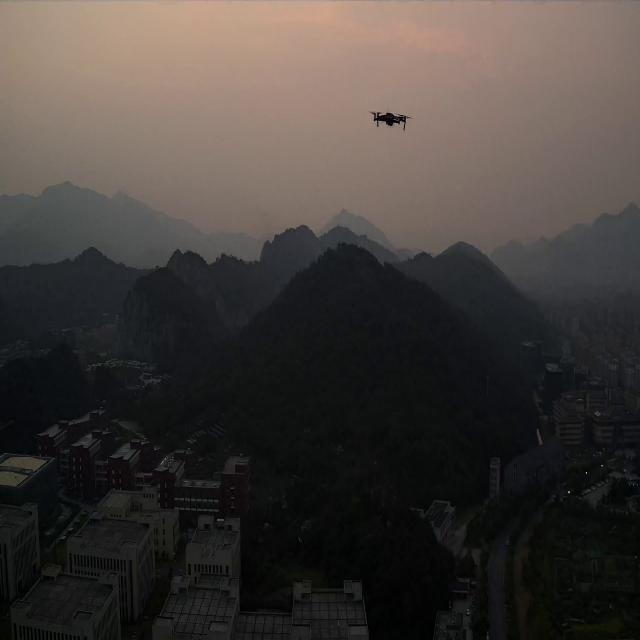UAV: (371, 109, 409, 132)
